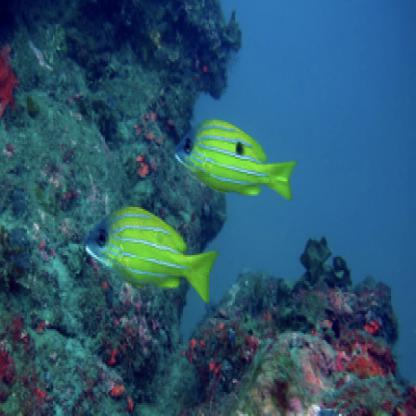snapper: (87, 199, 217, 315), (168, 103, 303, 208)
